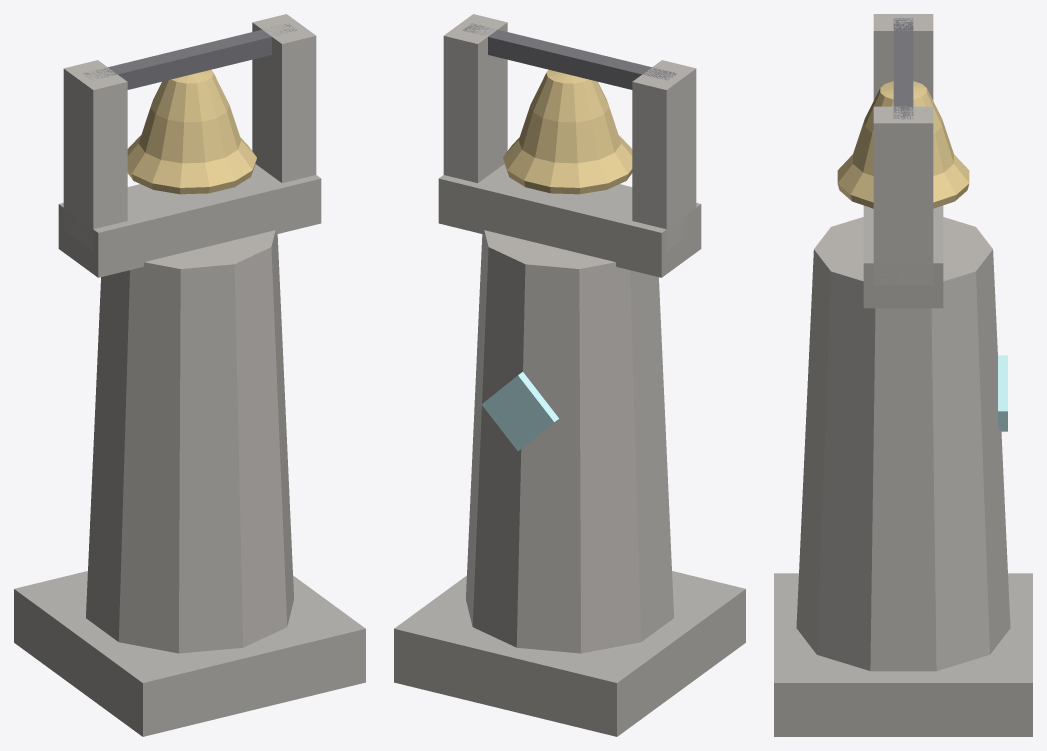
The model's file is bell_pillar.glb.
3 views of the same model, side by side, from view 1: azimuth 30°, elevation 25°; view 2: azimuth 150°, elevation 25°; view 3: azimuth 270°, elevation 25° (orthographic).
Parts seen in each view (by area): view 1: bell_pillar; view 2: bell_pillar; view 3: bell_pillar.
Part boxes in pixels (x1=…): bell_pillar: x1=14, y1=14, x2=365, y2=736; bell_pillar: x1=394, y1=14, x2=745, y2=736; bell_pillar: x1=774, y1=14, x2=1032, y2=736.
Bounding box in the file's own units: 1.3 × 3.4 × 1.3.
